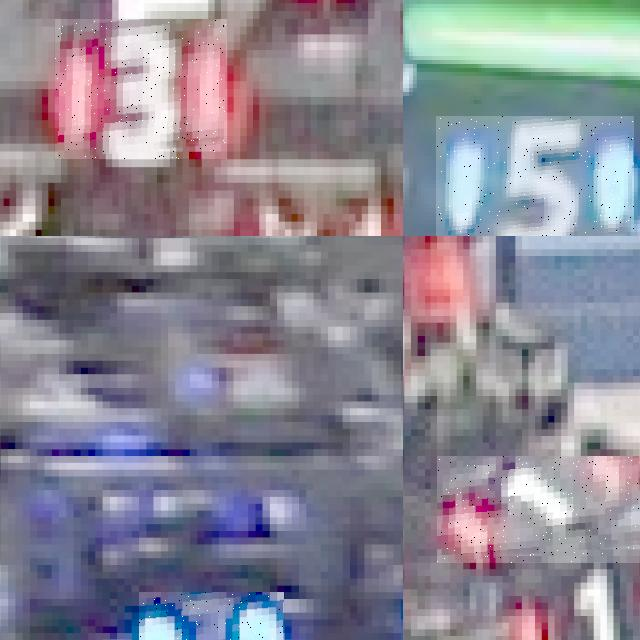B2: (138, 592, 284, 640)
B5: (436, 116, 634, 236)
R1: (437, 456, 640, 562), (502, 556, 640, 640)
R3: (55, 19, 227, 159)
